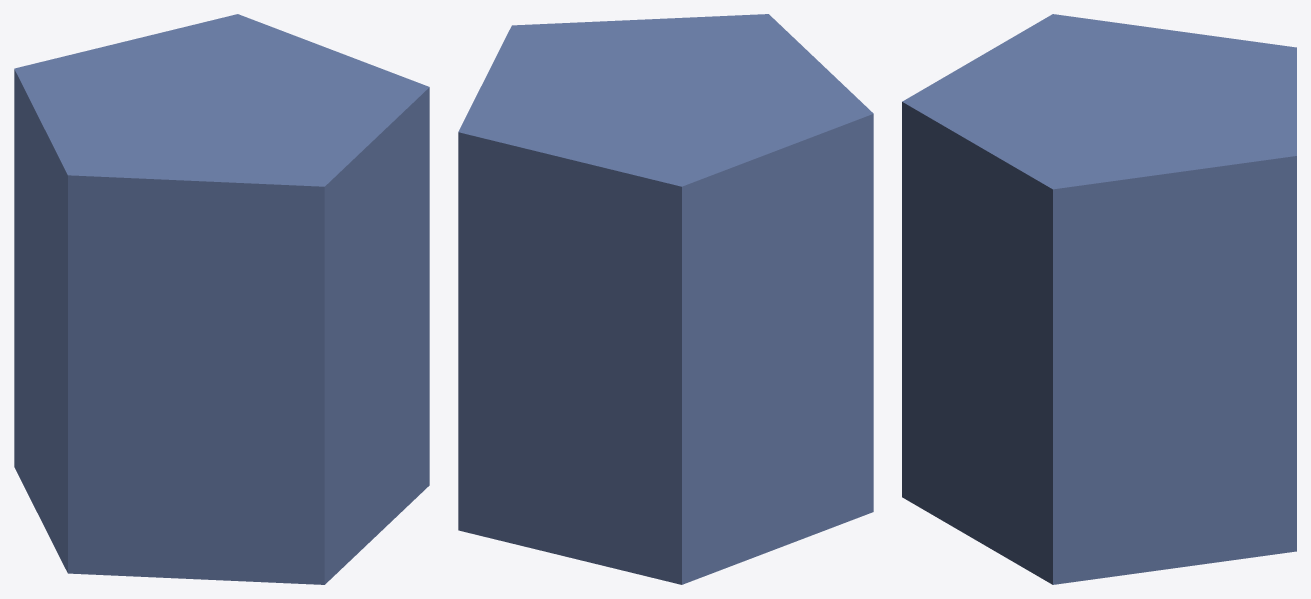
The model's file is segilima.glb.
3 views of the same model, side by side, from view 1: azimuth 30°, elevation 25°; view 2: azimuth 150°, elevation 25°; view 3: azimuth 270°, elevation 25° (orthographic).
Parts seen in each view (by area): view 1: Mesh_Mesh_head_geo.001_lambert2SG.001; view 2: Mesh_Mesh_head_geo.001_lambert2SG.001; view 3: Mesh_Mesh_head_geo.001_lambert2SG.001.
Boxes of the visible parts, <box> form: Mesh_Mesh_head_geo.001_lambert2SG.001: <box>14,14,429,584</box>; Mesh_Mesh_head_geo.001_lambert2SG.001: <box>458,14,873,584</box>; Mesh_Mesh_head_geo.001_lambert2SG.001: <box>902,14,1296,584</box>.
Size of the model in its own units: 19.02 by 20 by 18.09.
